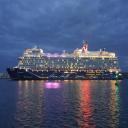cruises: (7, 40, 125, 82)
